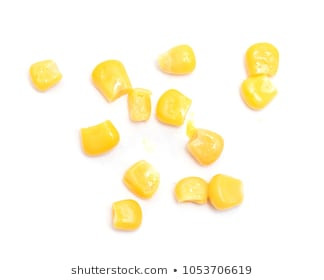corn: (90, 60, 131, 103), (77, 119, 120, 157), (119, 158, 160, 197), (240, 71, 278, 113), (154, 89, 193, 129), (206, 174, 244, 210), (155, 43, 199, 74), (27, 58, 63, 93), (243, 43, 280, 76), (110, 196, 143, 231)
